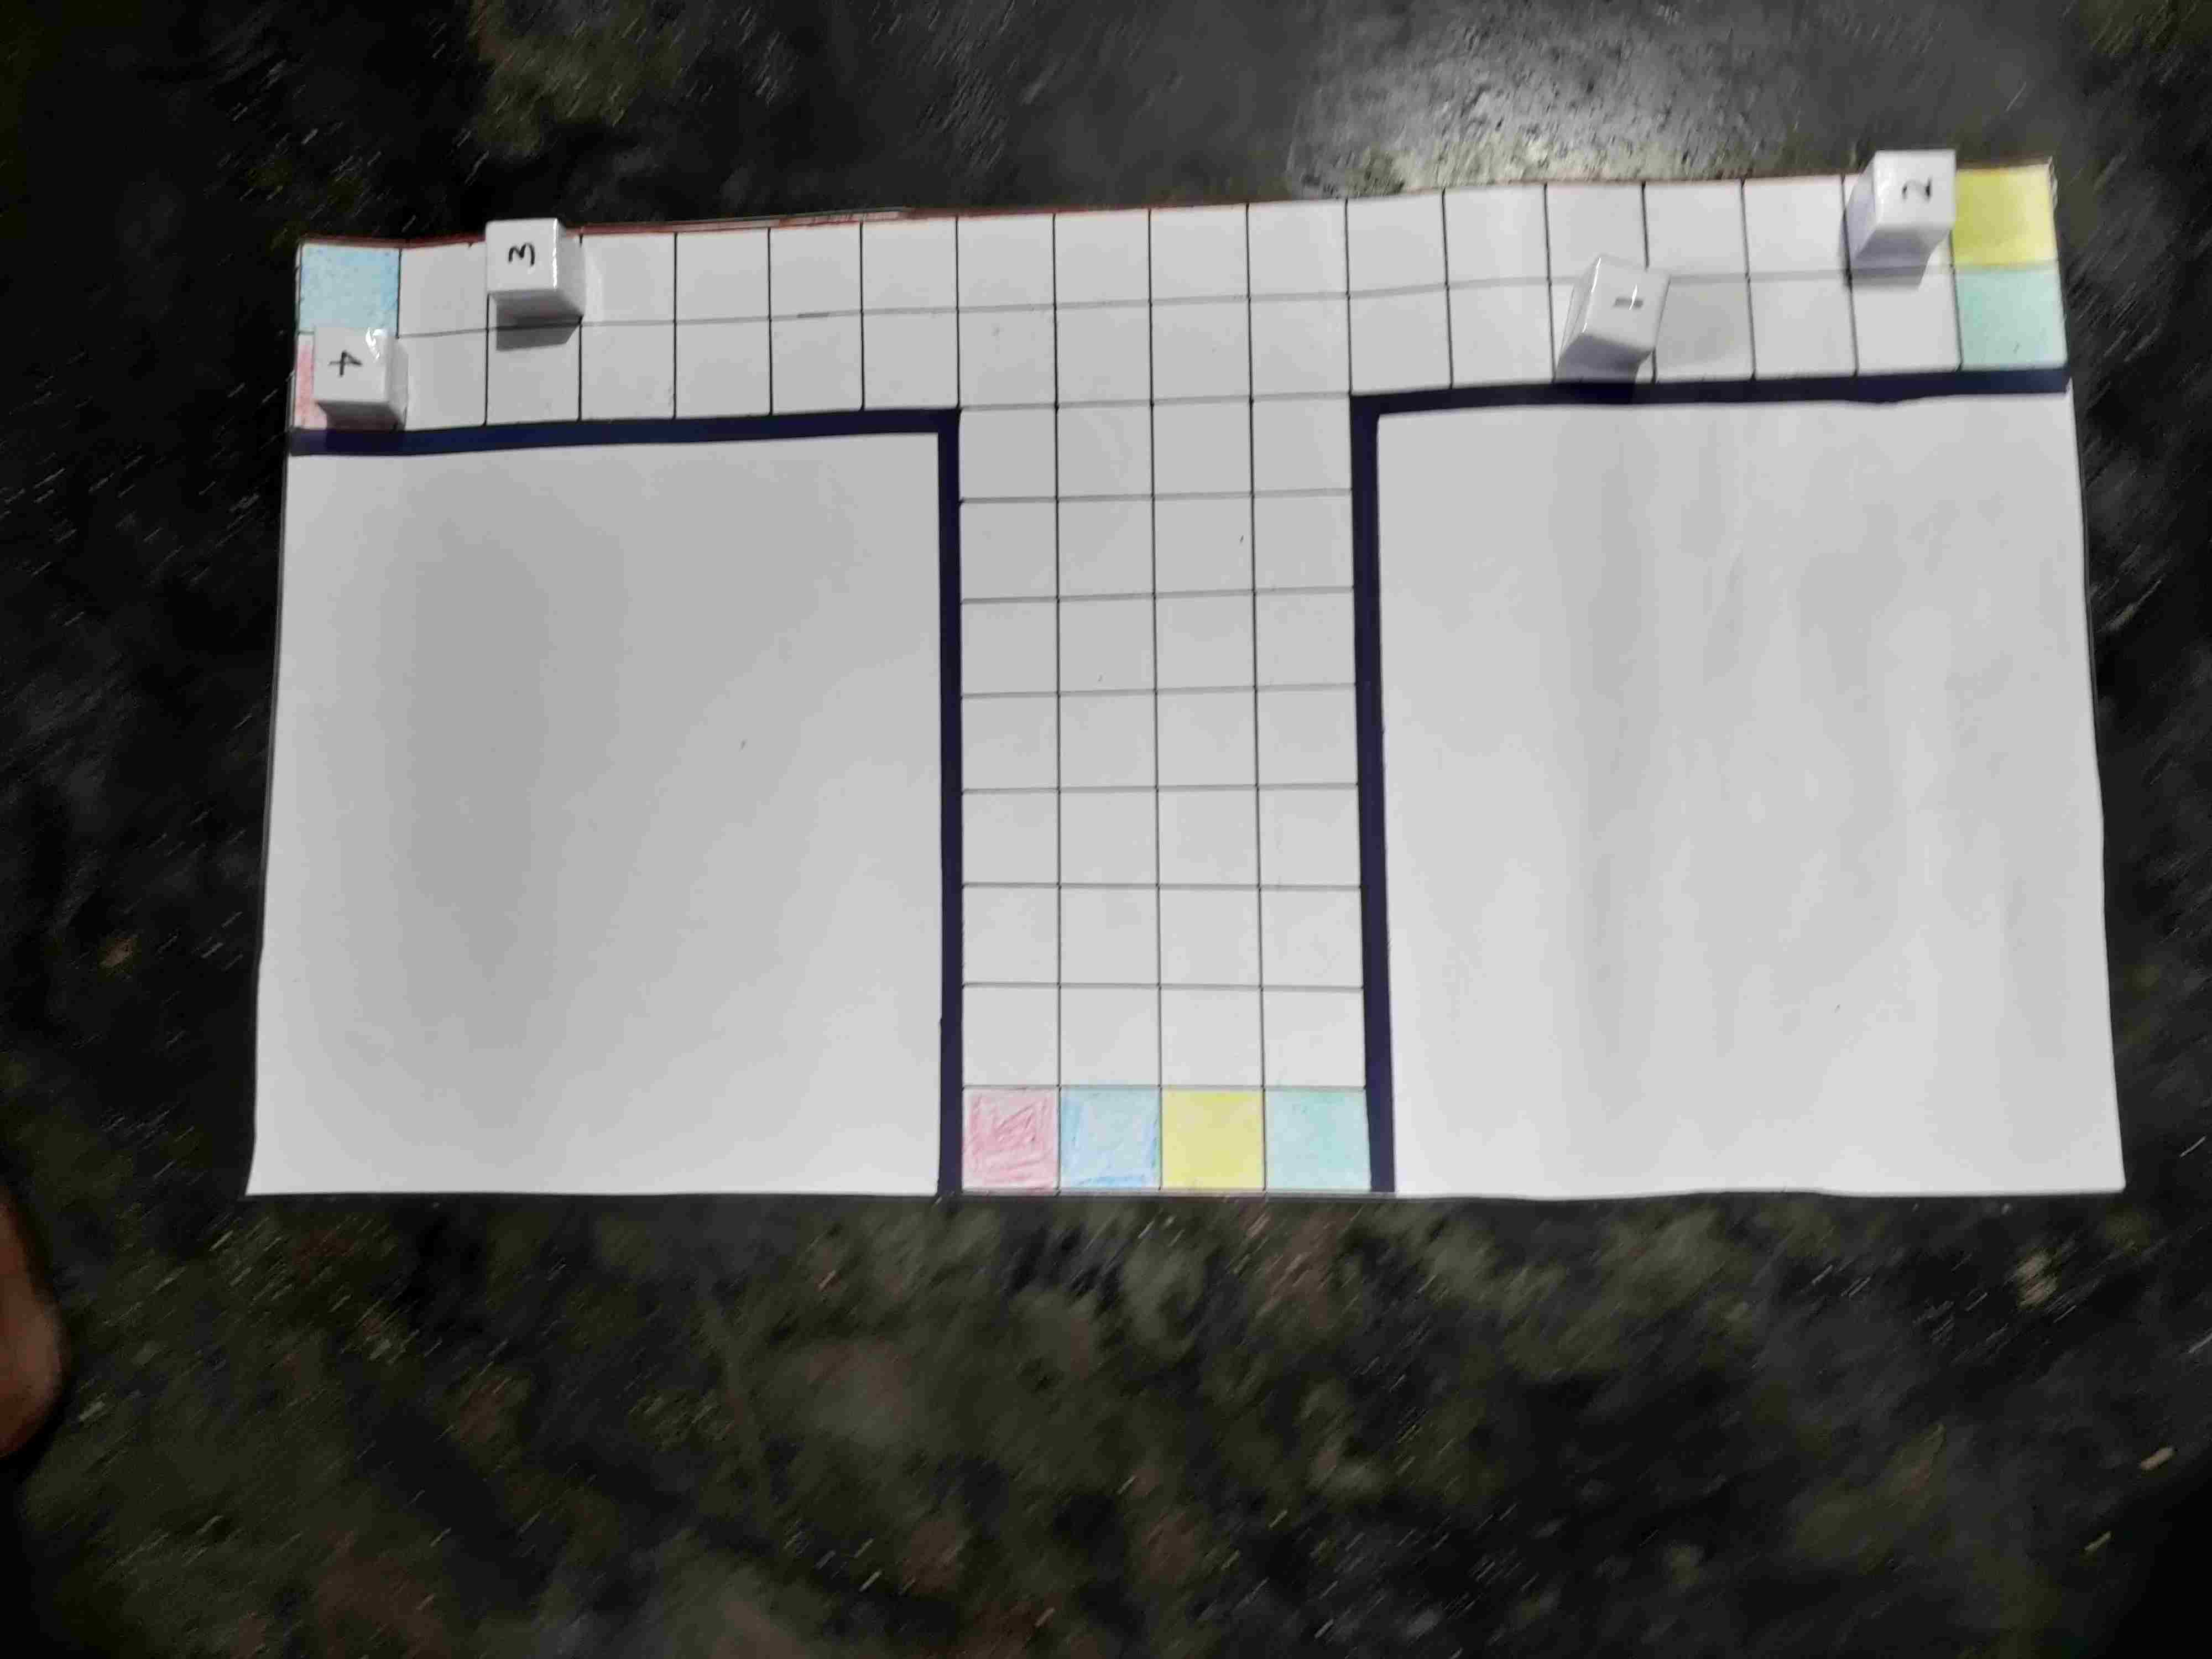arena: (78, 369, 2066, 1476)
bot: (1890, 1392, 1977, 1483), (240, 1377, 320, 1471), (1400, 1265, 1484, 1351), (146, 1253, 232, 1335)
